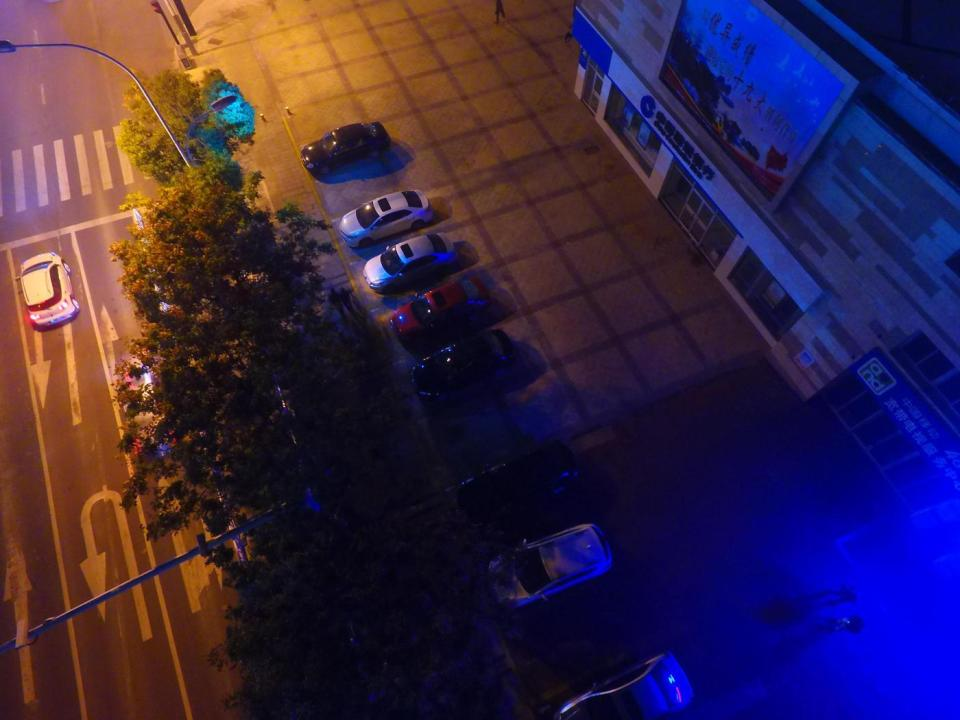car: (443, 439, 581, 535), (488, 526, 611, 612), (544, 650, 694, 720), (410, 327, 516, 406), (387, 273, 490, 341), (362, 230, 456, 293), (338, 188, 434, 246), (12, 251, 81, 329), (301, 121, 392, 171)
